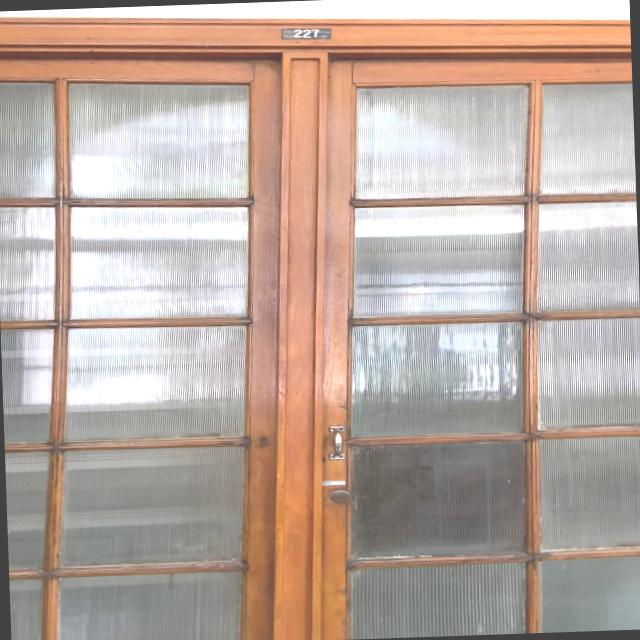room227: (278, 24, 334, 41)
